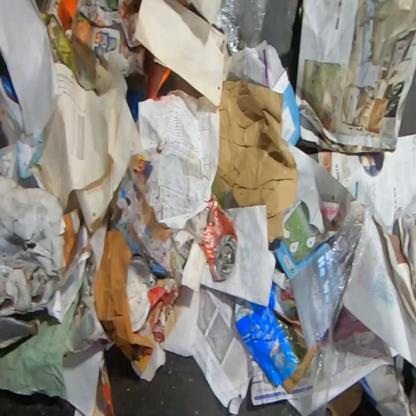cardboard: (215, 78, 299, 244), (233, 296, 302, 389), (146, 275, 184, 343), (283, 342, 318, 395), (143, 48, 172, 102), (327, 380, 365, 415), (160, 71, 205, 100), (56, 0, 80, 36)
metal: (201, 189, 238, 283)
rigid_plastic: (125, 256, 152, 333)
soft_plastic: (278, 179, 378, 416), (211, 0, 270, 56)
